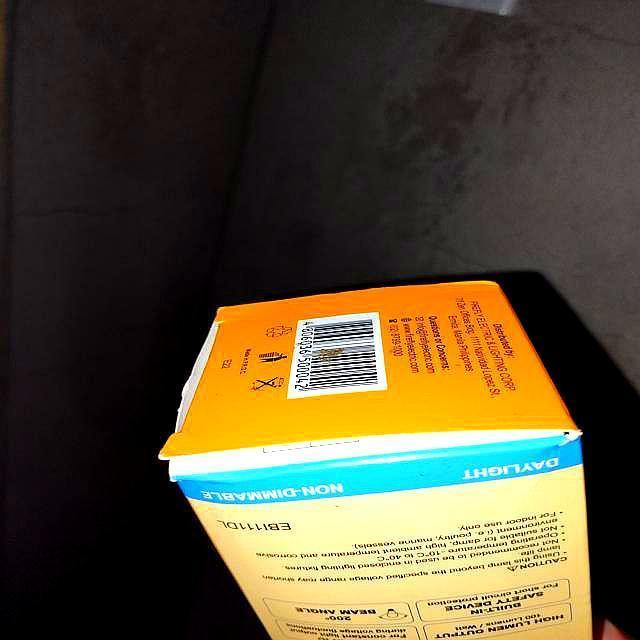Biodegradable: (161, 275, 597, 640)
